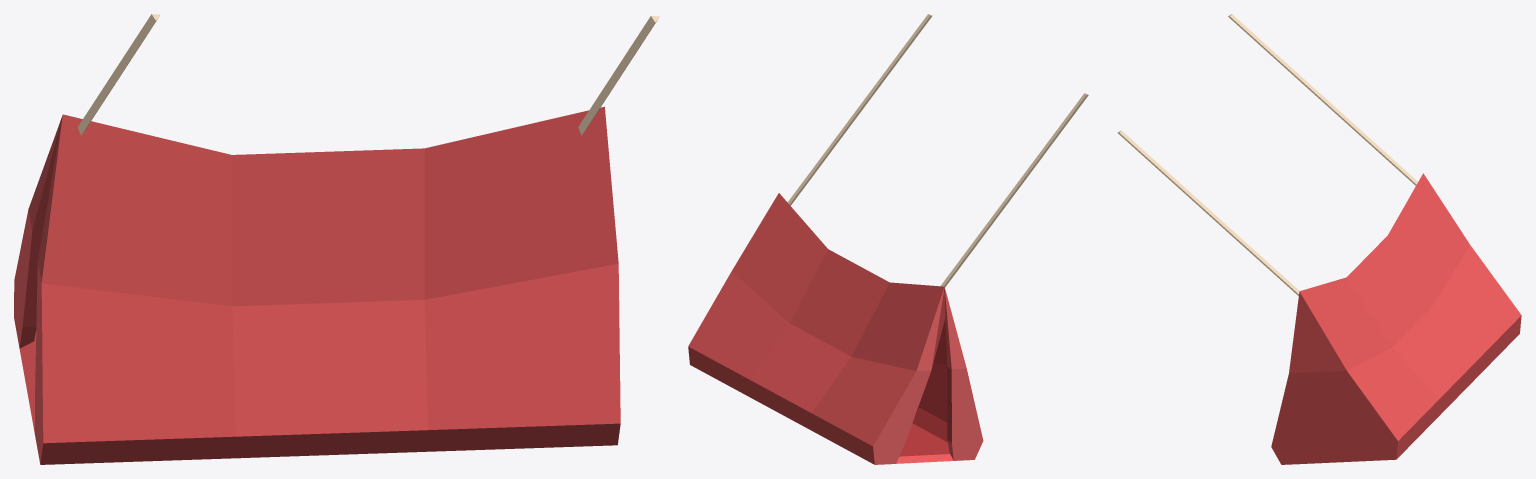
The model's file is tent.FBX.
3 renders of one model, left to right at view 1: azimuth 30°, elevation 25°; view 2: azimuth 150°, elevation 25°; view 3: azimuth 270°, elevation 25°, orthographic. The views are drawn at different scales.
Parts seen in each view (by area): view 1: Object030; view 2: Object030; view 3: Object030.
Part boxes in pixels (left/top/right/bottom): Object030: left=14, top=14, right=659, bottom=464; Object030: left=688, top=14, right=1088, bottom=464; Object030: left=1117, top=14, right=1521, bottom=464.
Size of the model in its own units: 10.16 by 9.63 by 11.14.
1 material, 1 textured.
